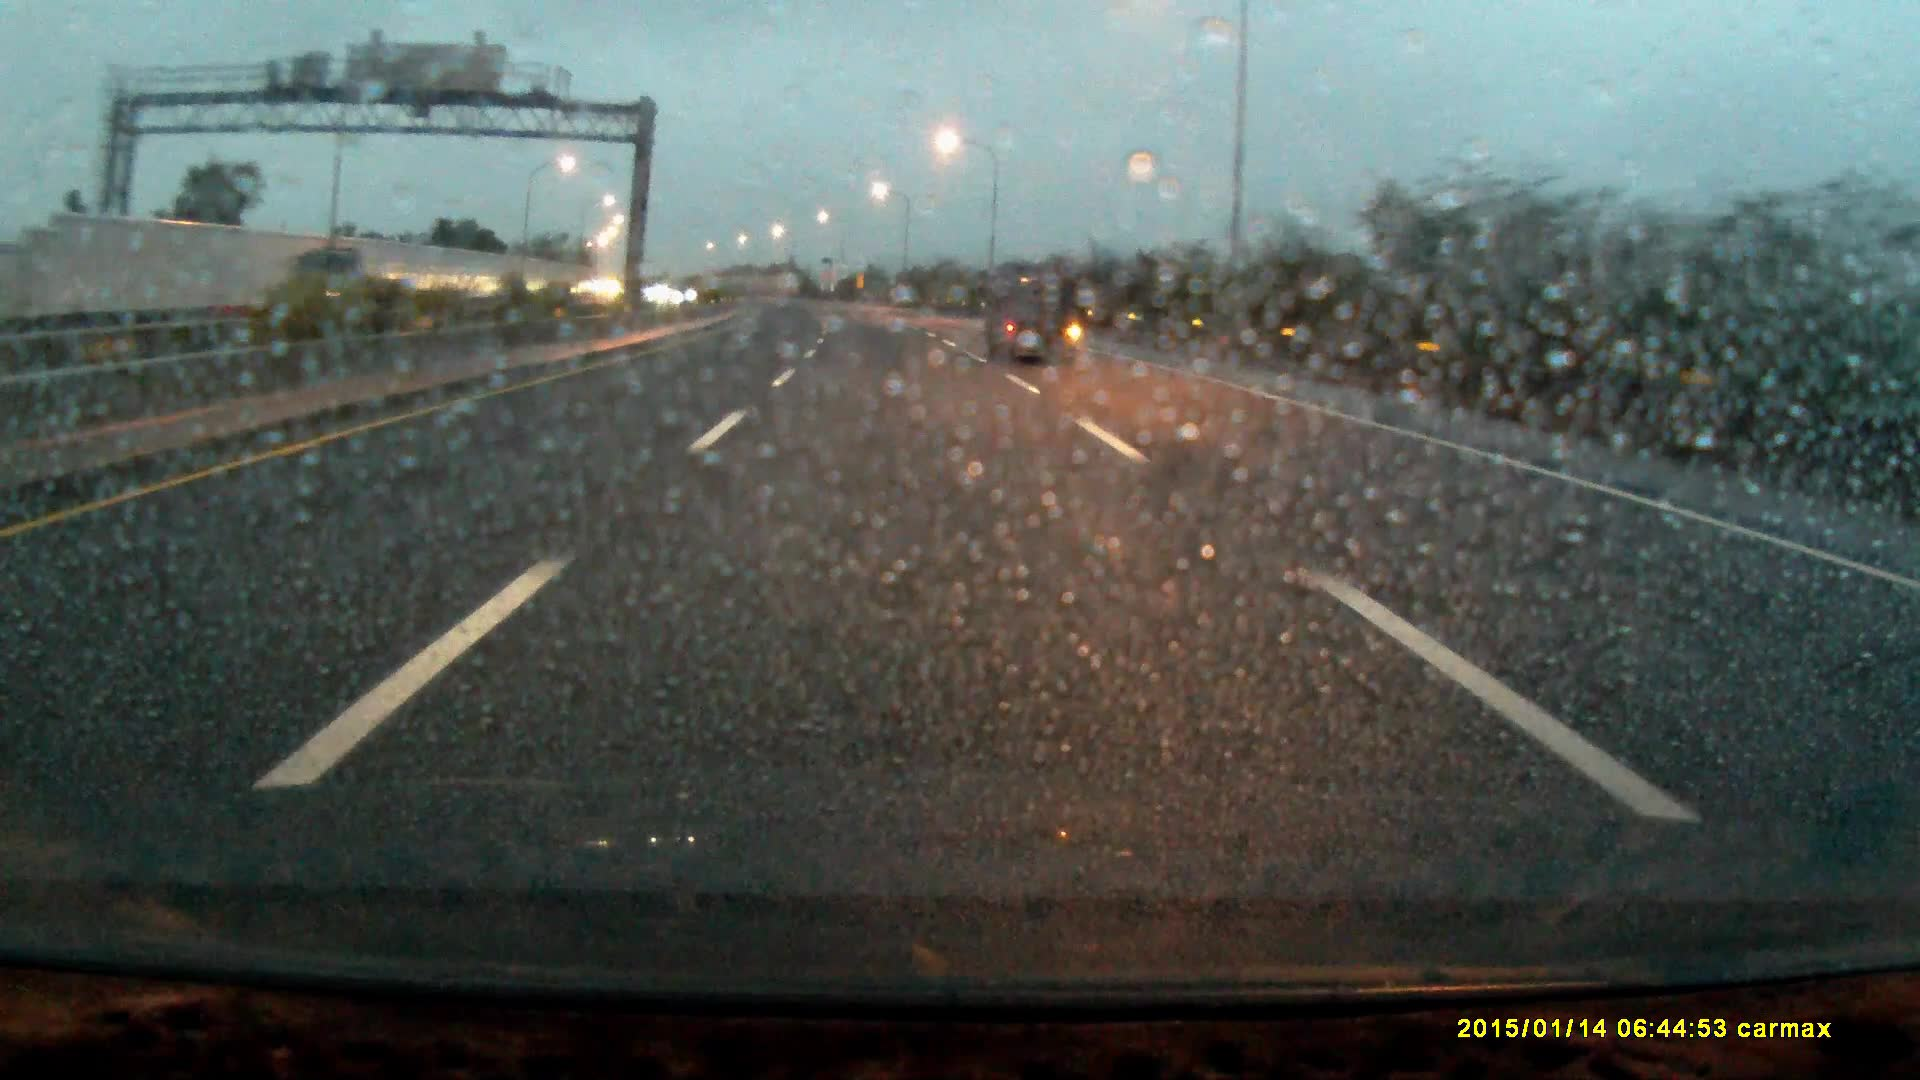vehicle: (284, 244, 415, 322), (993, 273, 1080, 367)
